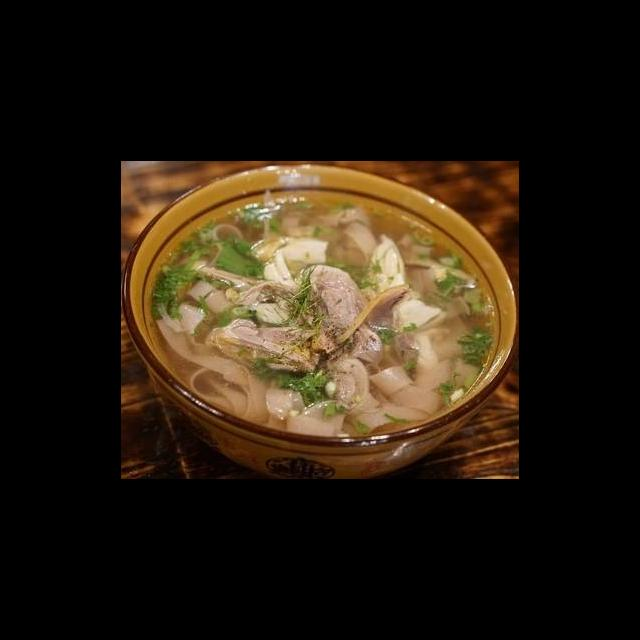banh pho: (146, 300, 273, 425), (206, 200, 380, 291), (352, 350, 483, 441), (172, 219, 259, 316), (393, 232, 481, 323), (243, 371, 353, 440)
pho ga: (128, 180, 519, 479)
thit ga: (291, 258, 386, 416), (307, 278, 424, 386), (203, 314, 324, 377)
